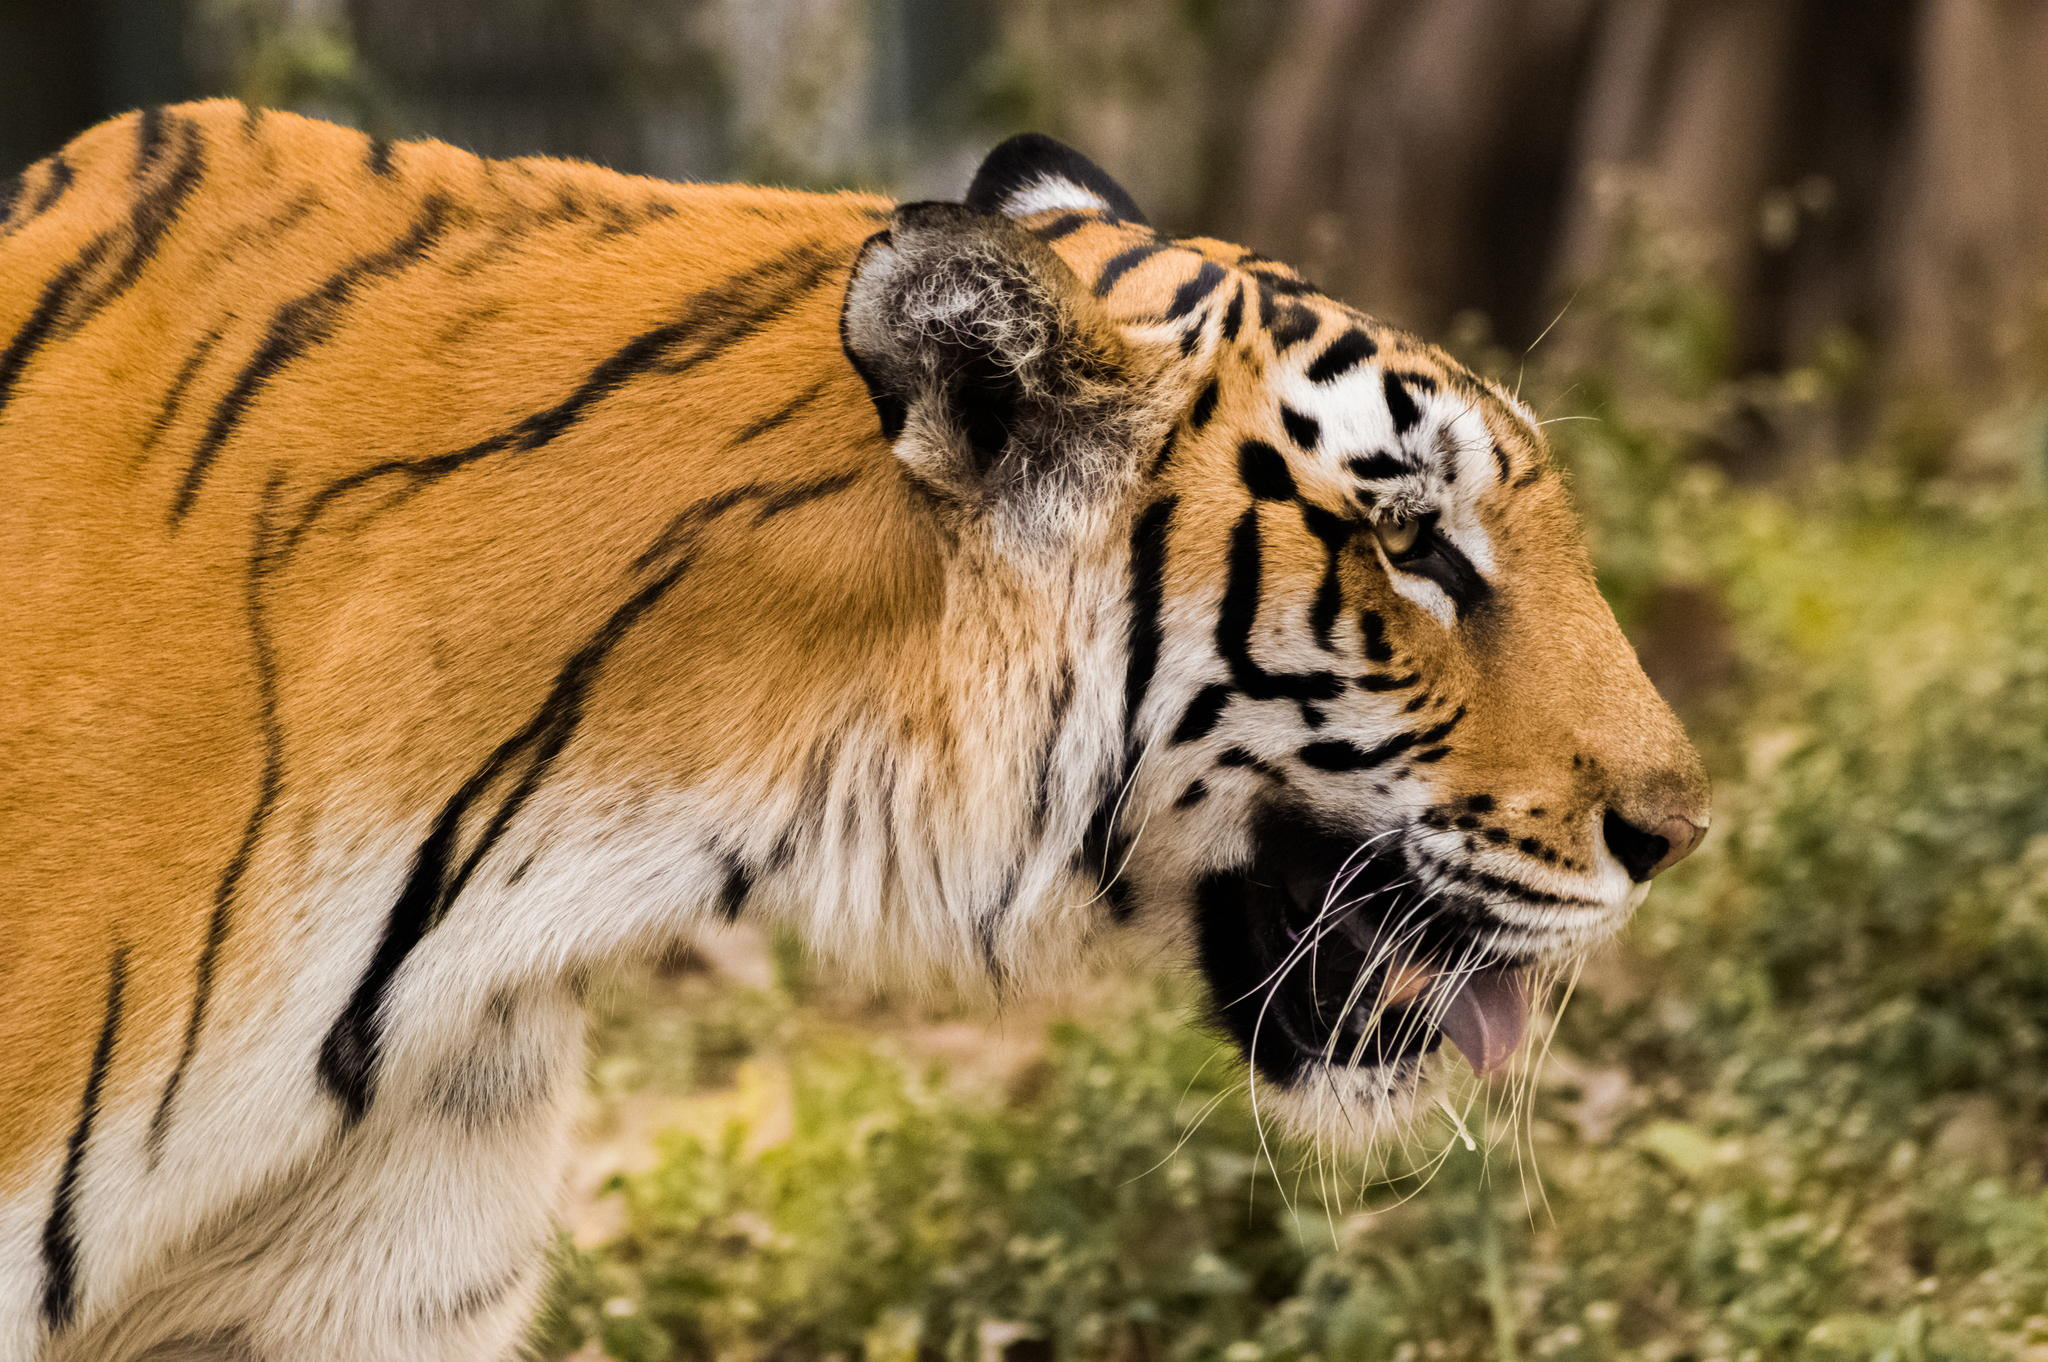tiger: (85, 94, 1676, 1332)
